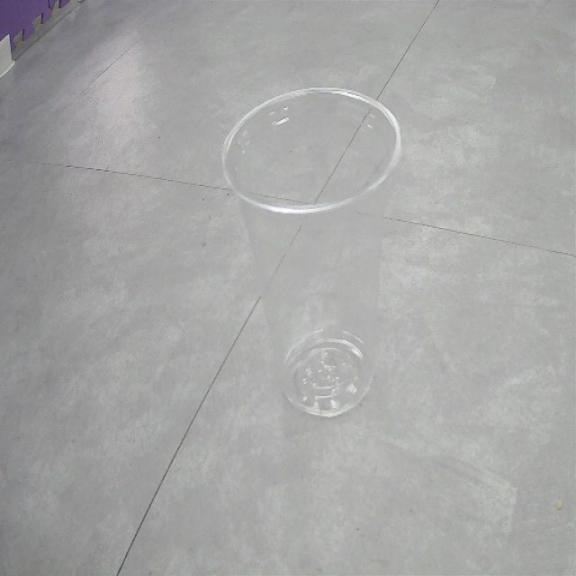Plastik: (223, 88, 400, 416)
